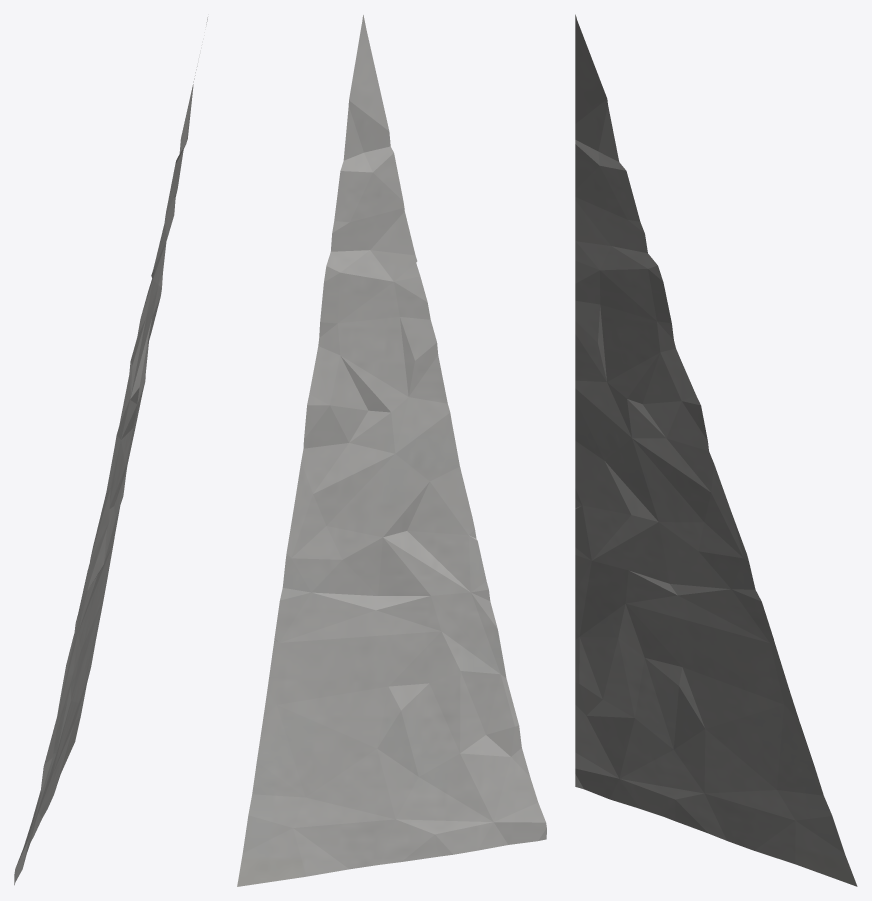
3 views of the same model, side by side, from view 1: azimuth 30°, elevation 25°; view 2: azimuth 150°, elevation 25°; view 3: azimuth 270°, elevation 25° (orthographic). The views are drawn at different scales.
Size of the model in its own units: 0.3002 by 1.22 by 0.3572.
1 material, 1 textured.
